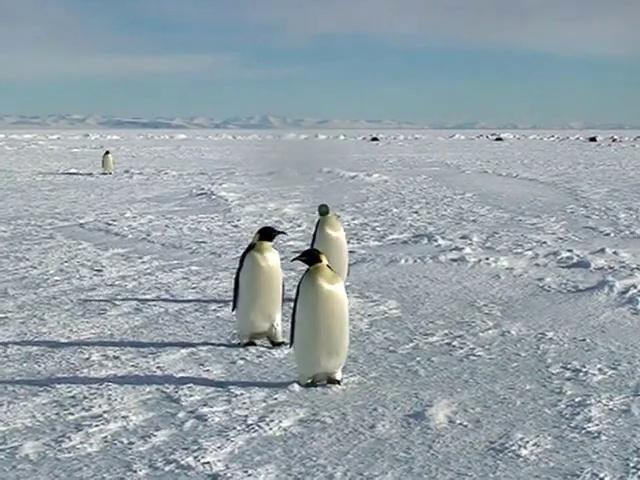animal: (312, 205, 350, 282)
